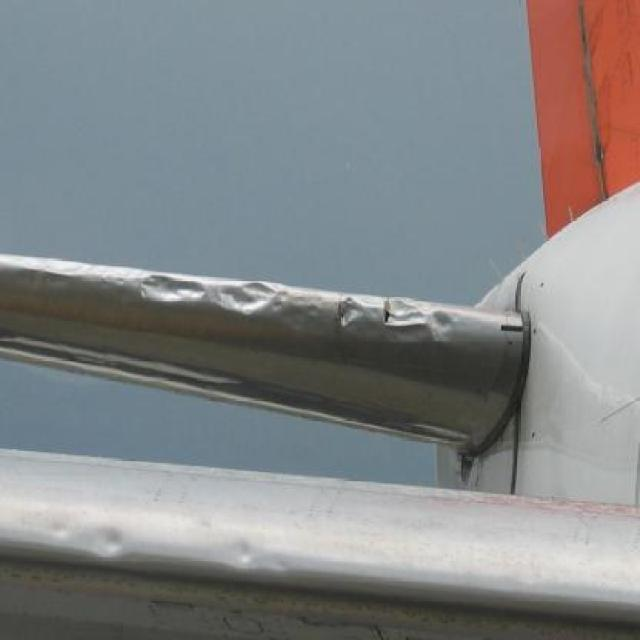crack: (378, 294, 394, 330)
dent: (0, 256, 459, 338)
